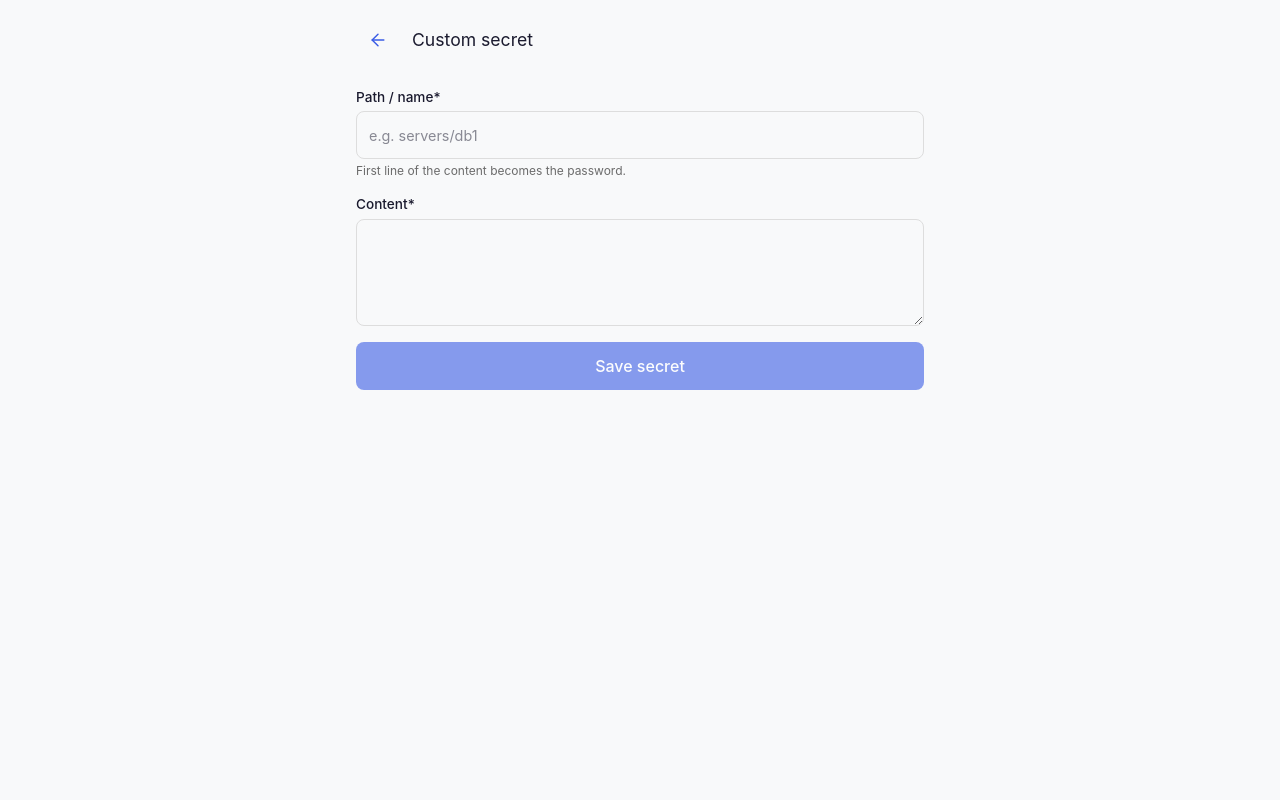
Test: CreateCustomPage › on entry_conflict outcome, surfaces the per-entry modal (create op)
The width and height of the screenshot is (1280, 800).
Type "misc/foo" into the field with id "c-name" at (640, 135), box [356, 111, 924, 159]
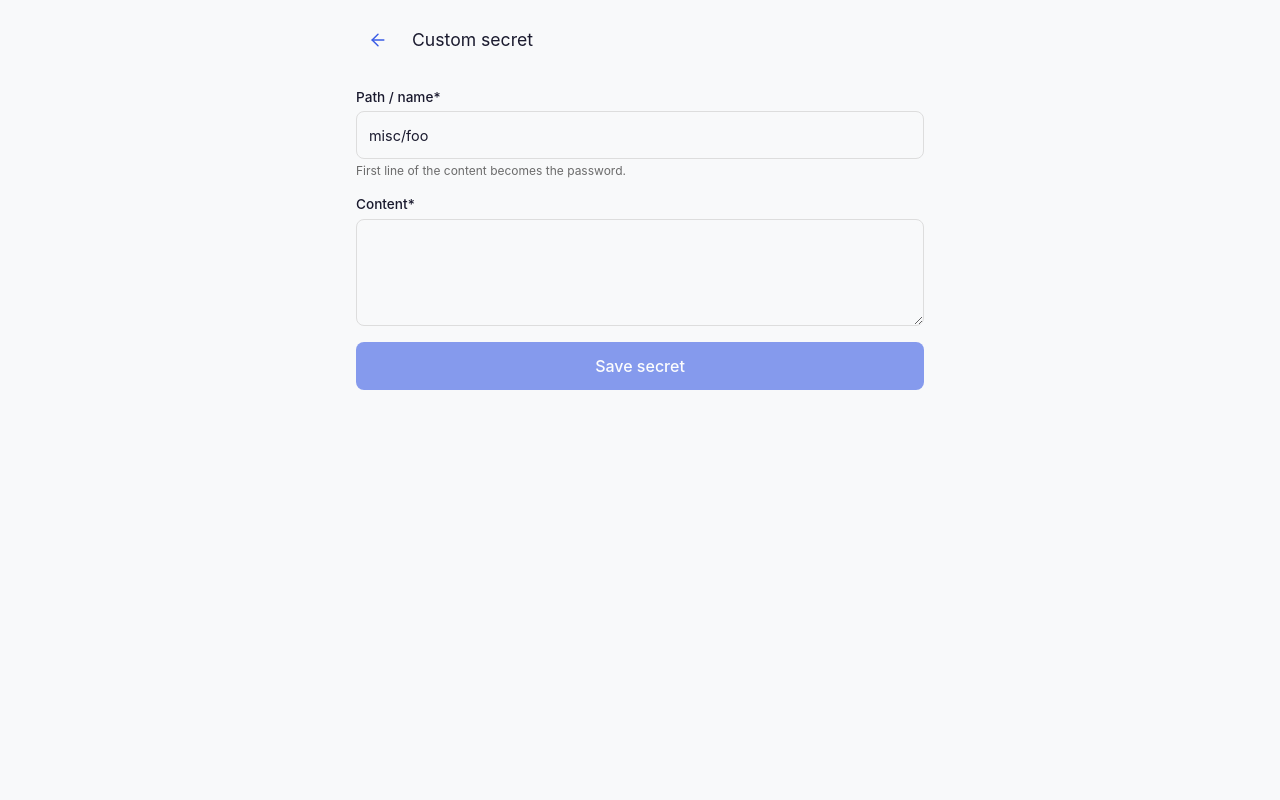
Type "hunter2" into the text box with id "c-content" at (640, 273), box [356, 219, 924, 326]
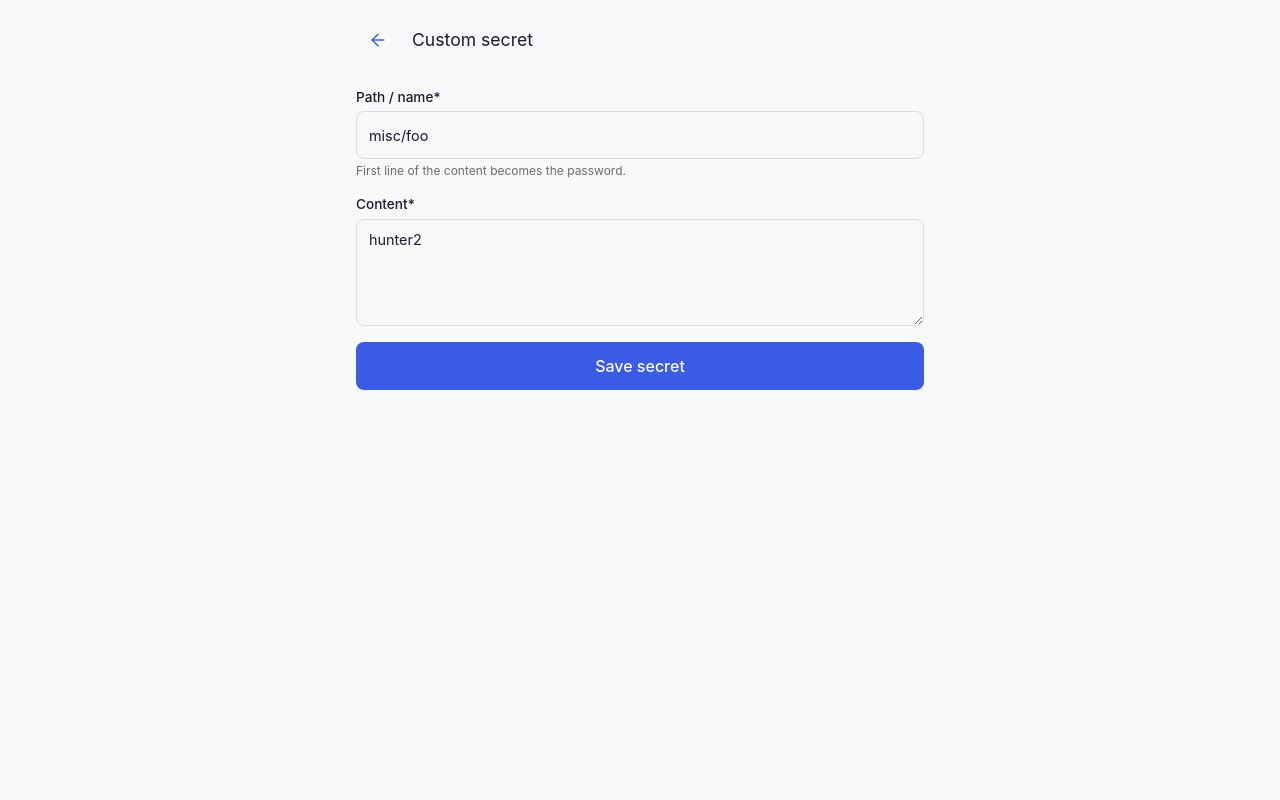
Submit the form, box [356, 88, 924, 390]
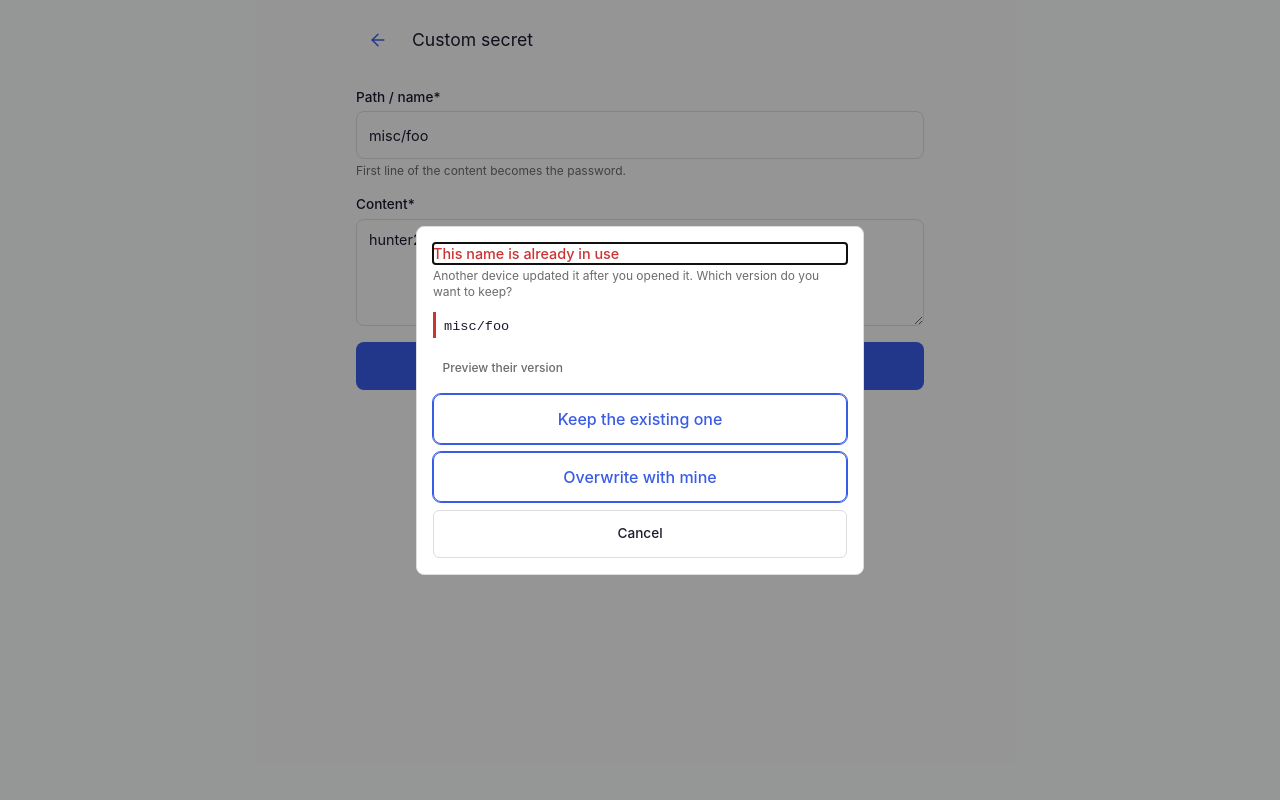
Result: the text "This name is already in use" is shown at [433, 244, 619, 262]
Result: the text "misc/foo" is shown at [444, 319, 509, 334]
Result: the text "Keep the existing one" is shown at [433, 394, 847, 444]
